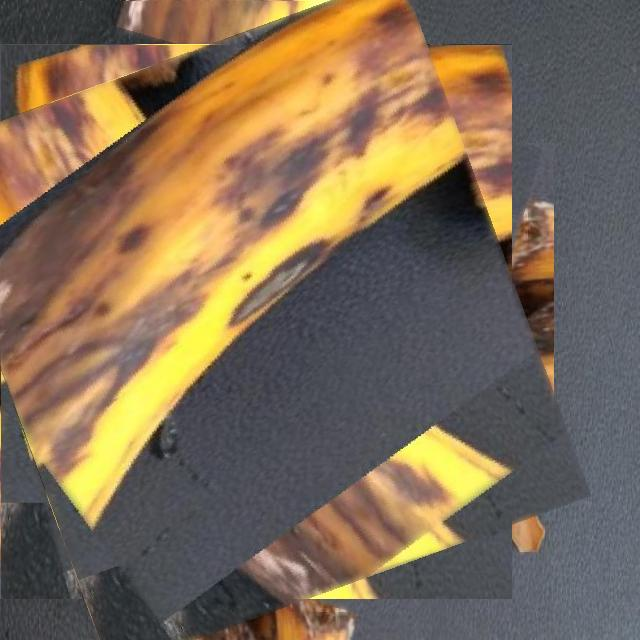Execivamente Madura: (0, 8, 551, 634)
